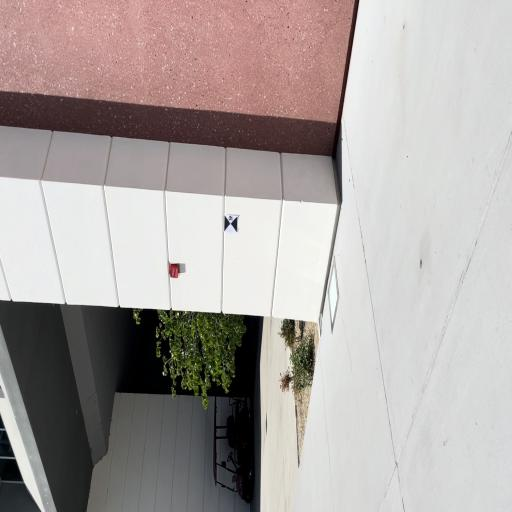target9: (224, 214, 238, 232)
